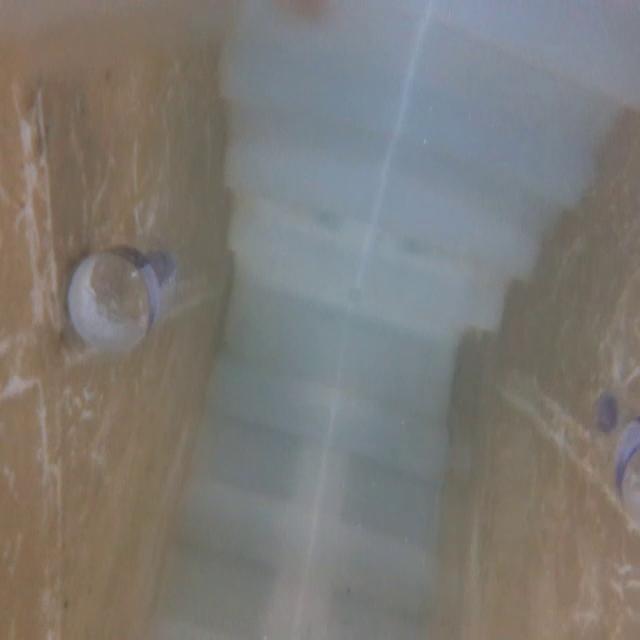plastic bottle: (31, 222, 205, 387), (595, 388, 640, 522)
